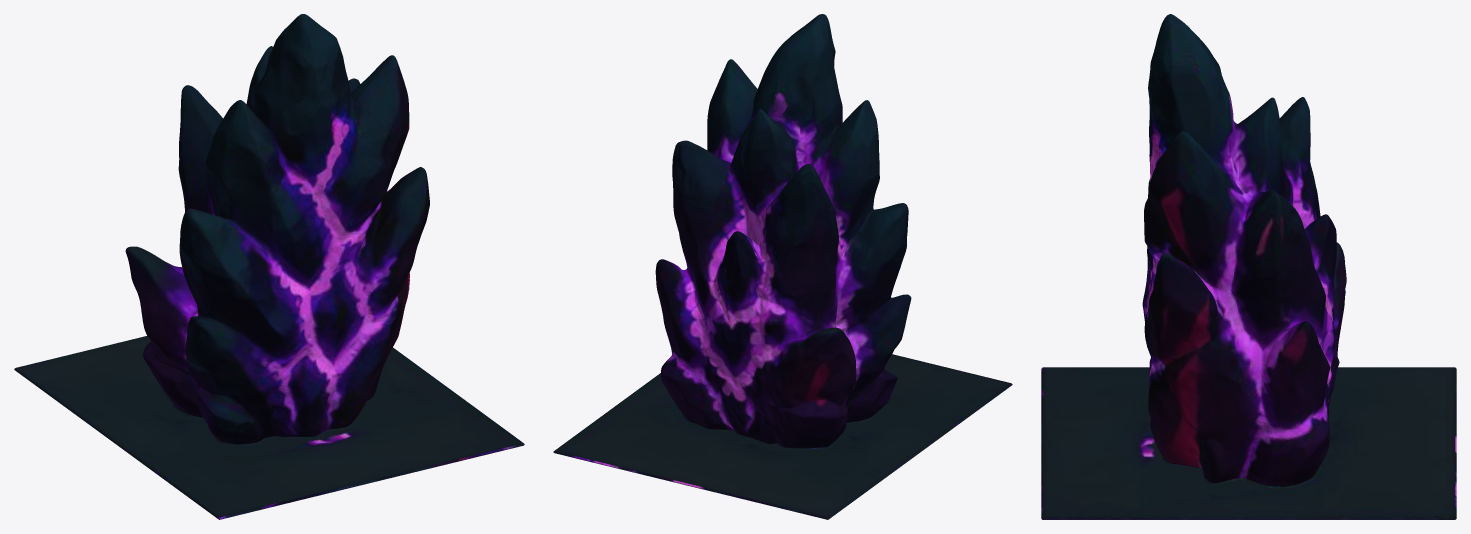
File: OUTCROP.glb
3 views of the same model, side by side, from view 1: azimuth 30°, elevation 25°; view 2: azimuth 150°, elevation 25°; view 3: azimuth 270°, elevation 25° (orthographic). The views are drawn at different scales.
Visible parts, largest first — view 1: OUTCROP_512; view 2: OUTCROP_512; view 3: OUTCROP_512.
Part boxes in pixels (<box>): OUTCROP_512: <box>14,14,524,519</box>; OUTCROP_512: <box>553,14,1012,519</box>; OUTCROP_512: <box>1041,14,1456,519</box>.
Size of the model in its own units: 1.51 by 1.99 by 1.75.
1 material, 1 textured.
